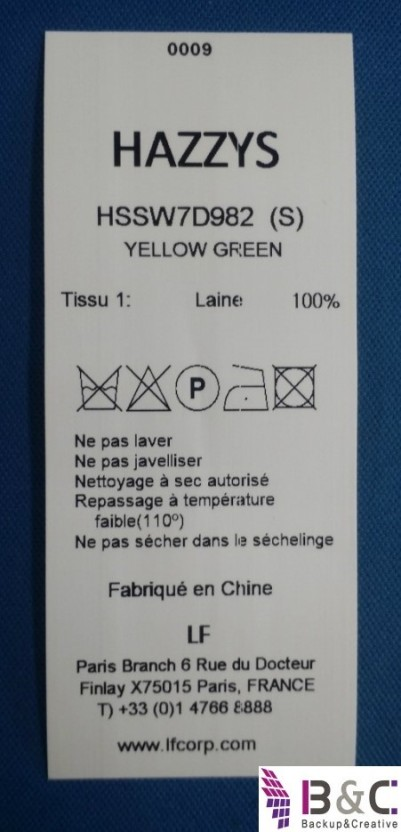ER_dry_clean_chemical: (174, 357, 219, 414)
ER_iron_low_temp: (221, 359, 270, 415)
ER_no_bleach: (125, 362, 172, 416)
ER_no_tumble_dry: (268, 360, 319, 414)
ER_no_wash: (74, 360, 122, 414)
